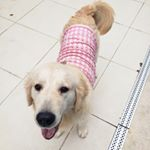puppy: (23, 1, 119, 144)
